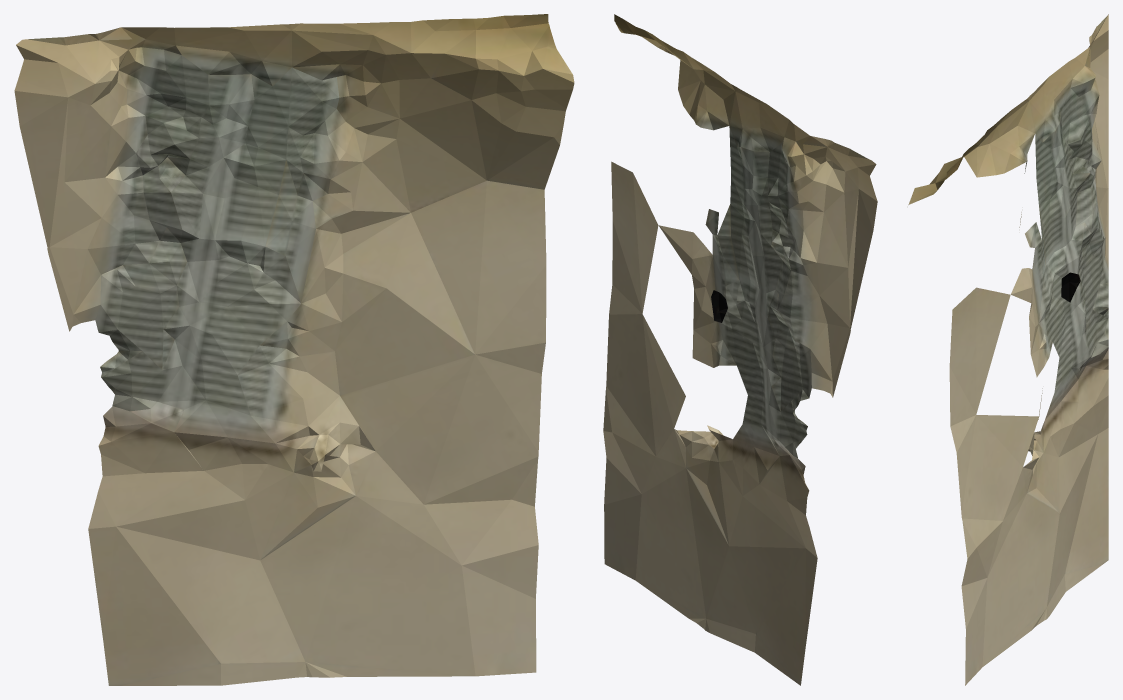
3 renders of one model, left to right at view 1: azimuth 30°, elevation 25°; view 2: azimuth 150°, elevation 25°; view 3: azimuth 270°, elevation 25°, orthographic. The views are drawn at different scales.
Size of the model in its own units: 2.25 by 3.35 by 1.19.
Materials: 2 (2 with a texture image).
